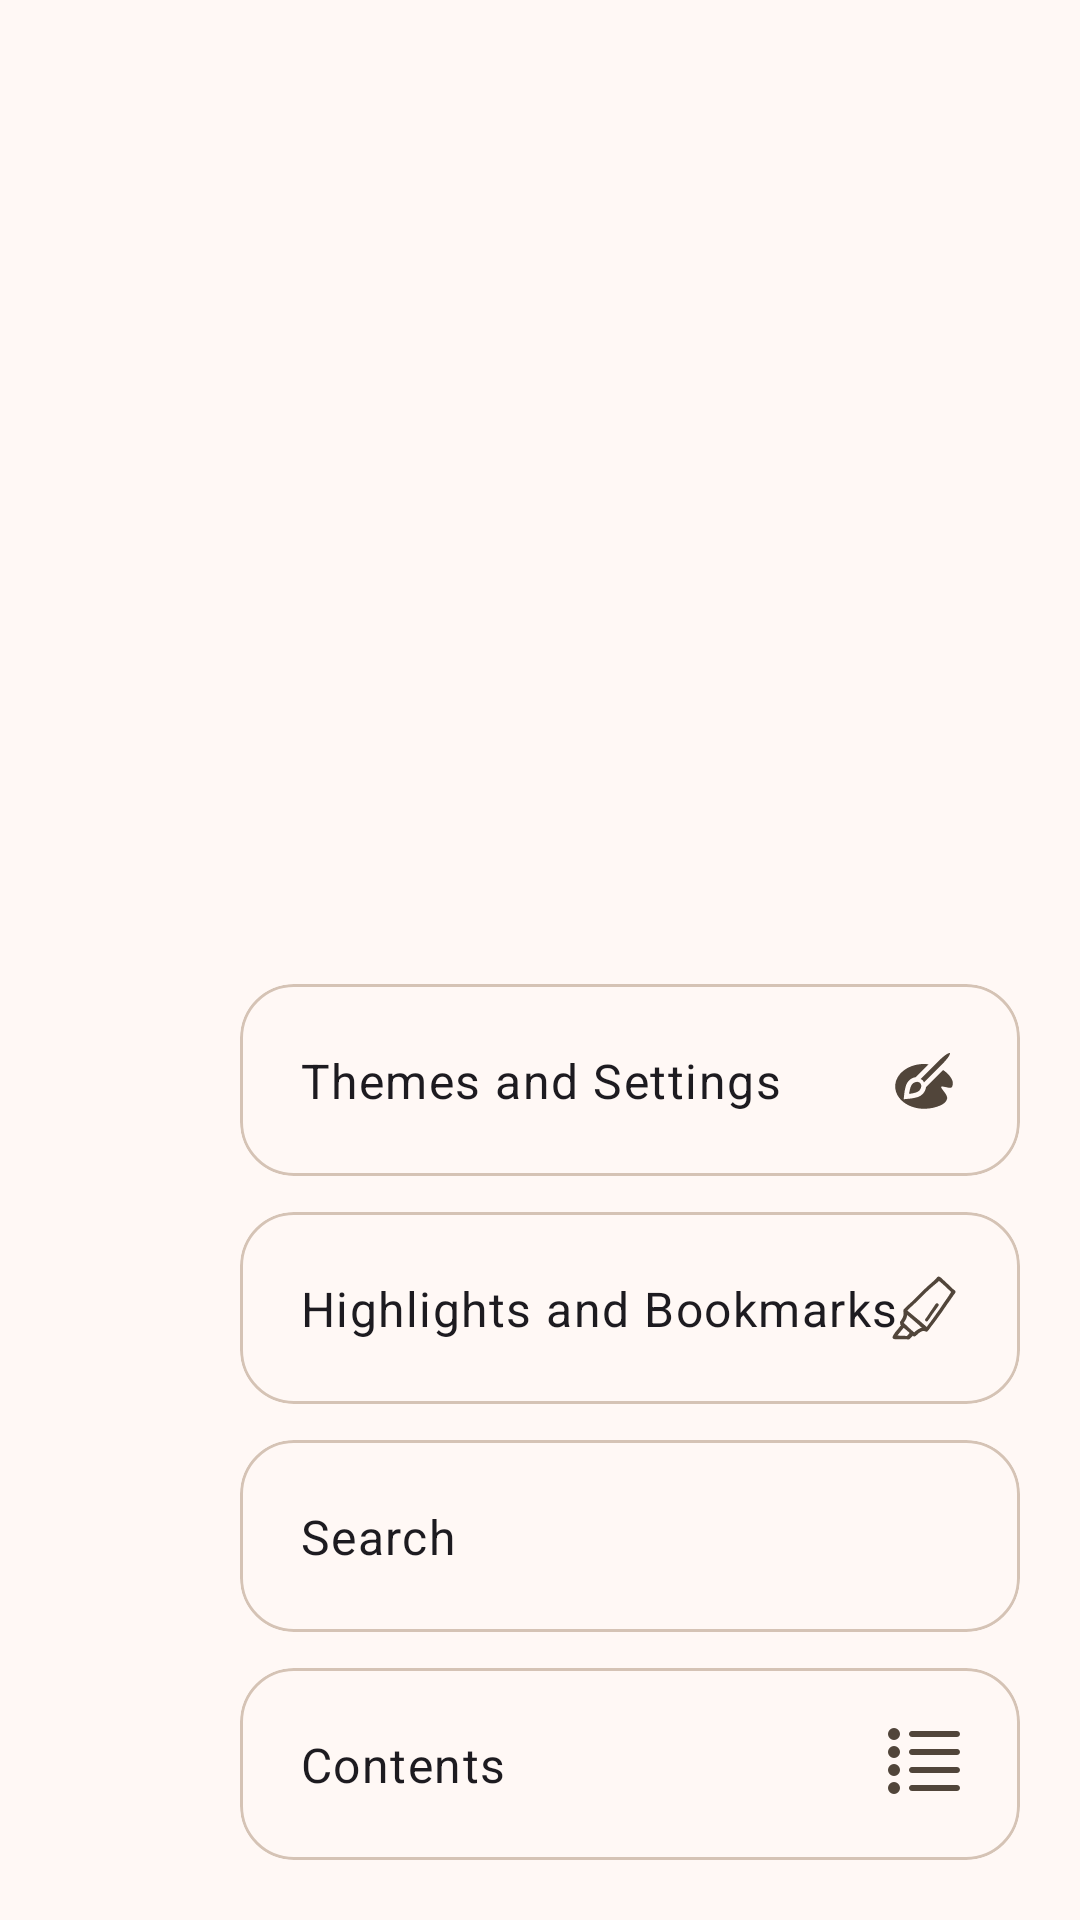

Screen size 1080w x 1920h. Icon name, then its box in pixels as [x1=x1, y1=y1, x2=x2, y2=y2]:
paint brush: [x1=895, y1=1053, x2=953, y2=1109]
